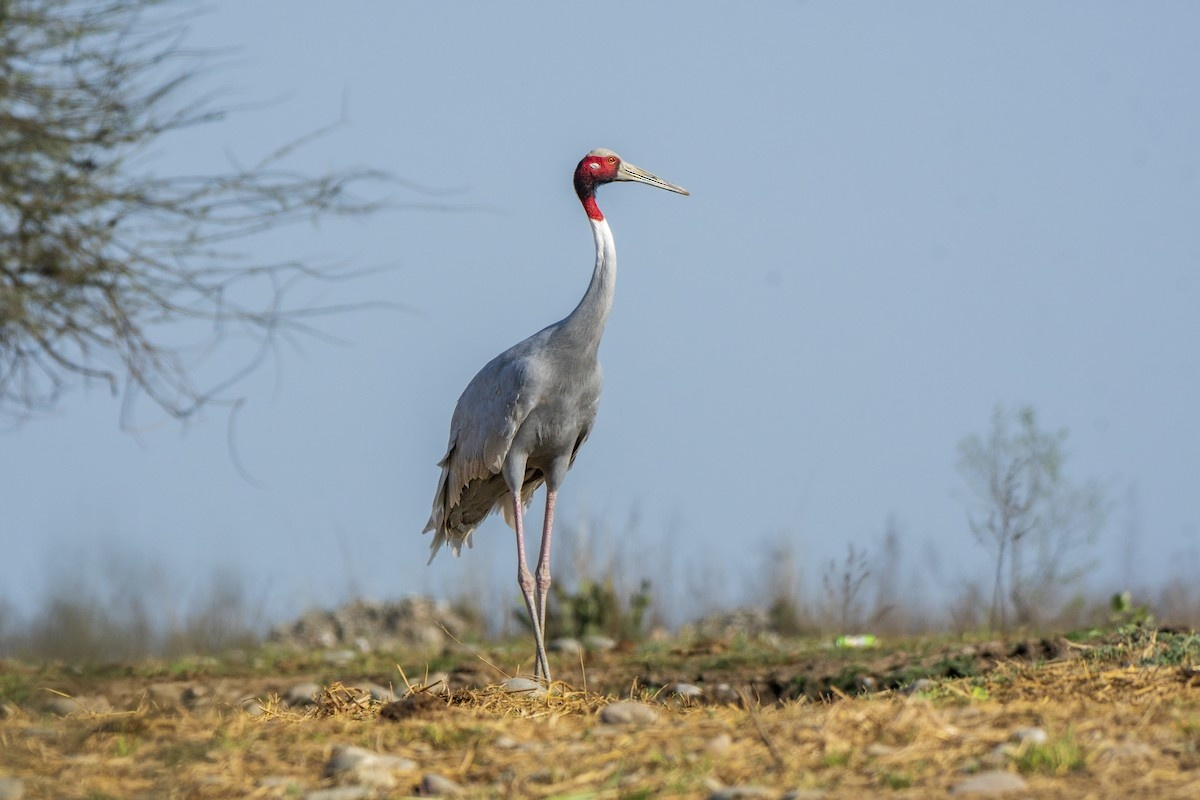crane: (423, 142, 695, 691)
